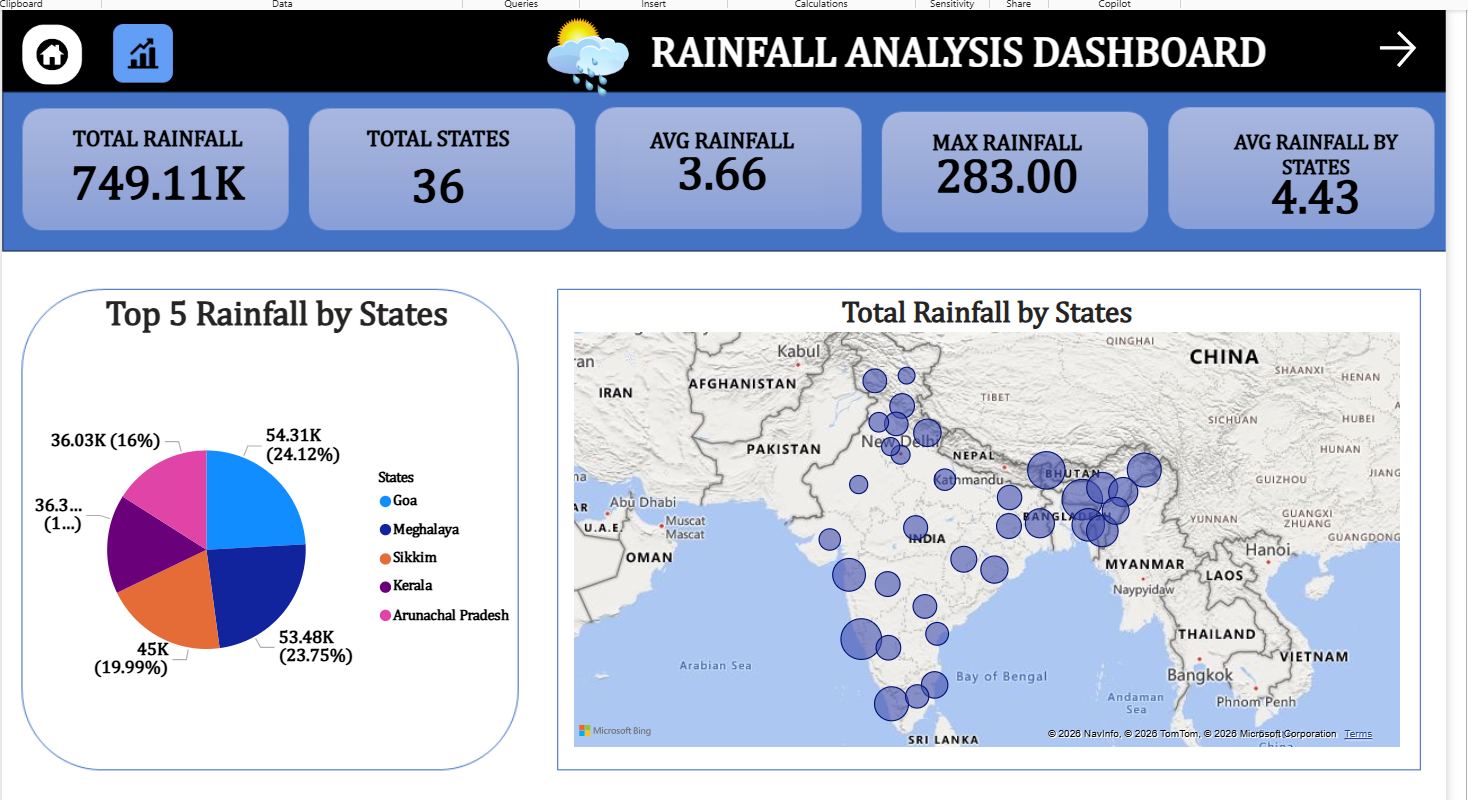

The dashboard page shown, as its layout file describes it:
{"tool":"powerbi","page":{"name":"HOME","canvas":[1280,720],"ordinal":0},"visuals":[{"type":"card","title":"TOTAL RAINFALL","fields":{"Values":["daily-rainfall-at-state-level.Total rainfall"]},"box":[52.4,103.5,171.5,73.7],"z":0},{"type":"card","title":"TOTAL STATES","fields":{"Values":["daily-rainfall-at-state-level.Total States"]},"box":[298.3,103.4,177.6,77.6],"z":1000},{"type":"card","title":"AVG RAINFALL","fields":{"Values":["daily-rainfall-at-state-level.Avg Rainfall"]},"box":[550,105.2,177.6,72.4],"z":2000},{"type":"card","title":"MAX RAINFALL","fields":{"Values":["Max(daily-rainfall-at-state-level.Rainfall)"]},"box":[805.2,106.9,172.4,74.1],"z":3000},{"type":"kpi","title":"AVG RAINFALL BY STATES","fields":{"Indicator":["daily-rainfall-at-state-level.Avg Rainfall"],"TrendLine":["daily-rainfall-at-state-level.States"]},"box":[1072.4,106.9,186.2,77.6],"z":4000},{"type":"pieChart","title":"Top 5 Rainfall by States","fields":{"Category":["daily-rainfall-at-state-level.States"],"Y":["daily-rainfall-at-state-level.Total rainfall"]},"box":[24.1,253.4,439.7,419],"z":5000},{"type":"map","title":"Total Rainfall by States","fields":{"Category":["daily-rainfall-at-state-level.States"],"Size":["daily-rainfall-at-state-level.Total rainfall"]},"box":[501.7,253.4,743.1,405.2],"z":6000},{"type":"textbox","box":[531,12.1,634.5,60.3],"z":7000},{"type":"actionButton","box":[1216.1,12.8,42.5,45.4],"z":8000},{"type":"image","box":[463.5,5.7,112,73.7],"z":8001},{"type":"image","box":[89.3,12.8,70.9,52.4],"z":8002},{"type":"image","box":[0,0,89.3,79.4],"z":8003}]}

Visuals, with their boxes on the page's 1280x720 design canvas (x1, y1, x2, y2). These are canvas units, not pixel positions in the 1468x800 screenshot, which may show the page scaled, cropped or inside an application window:
"TOTAL RAINFALL" card: box(52, 104, 224, 177)
"TOTAL STATES" card: box(298, 103, 476, 181)
"AVG RAINFALL" card: box(550, 105, 728, 178)
"MAX RAINFALL" card: box(805, 107, 978, 181)
"AVG RAINFALL BY STATES" kpi: box(1072, 107, 1259, 184)
"Top 5 Rainfall by States" pieChart: box(24, 253, 464, 672)
"Total Rainfall by States" map: box(502, 253, 1245, 659)
textbox: box(531, 12, 1166, 72)
actionButton: box(1216, 13, 1259, 58)
image: box(464, 6, 576, 79)
image: box(89, 13, 160, 65)
image: box(0, 0, 89, 79)
